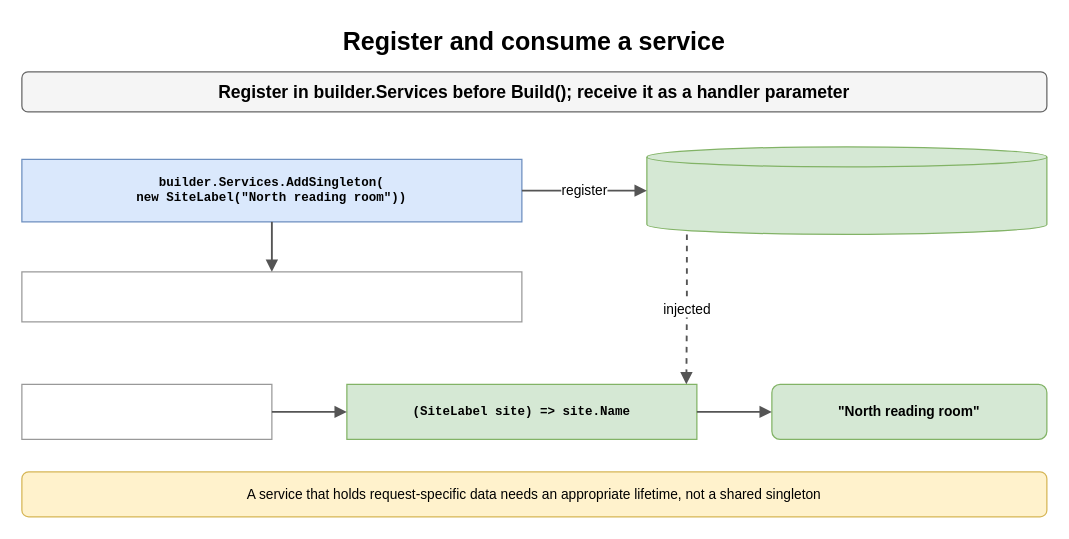
Some shapes in this 1069 by 539 pixel diagram are drawn without their labels. Here are the shapes that lost their labels. From the top down, the centre of each, then its label:
pixel 846 190: host provides one shared SiteLabel (singleton · immutable label)
pixel 271 296: builder.Build()
pixel 146 411: GET /site
